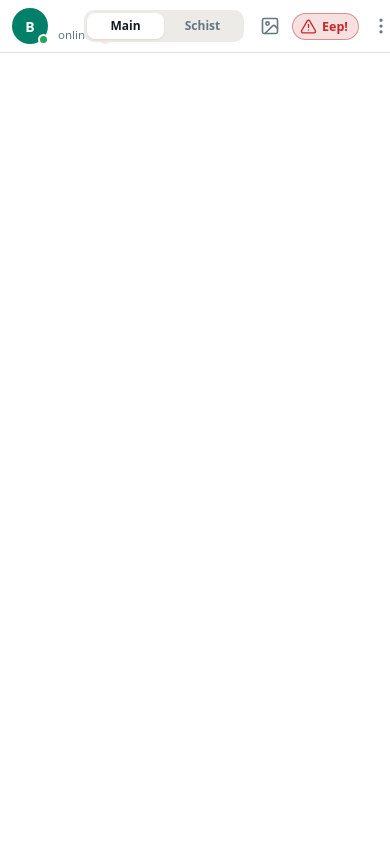
ChatHeader › tapping the avatar opens the card too
This screenshot has width=390, height=844.
Click the button named "View Bea's profile" at (30, 26), box [12,8,48,44]
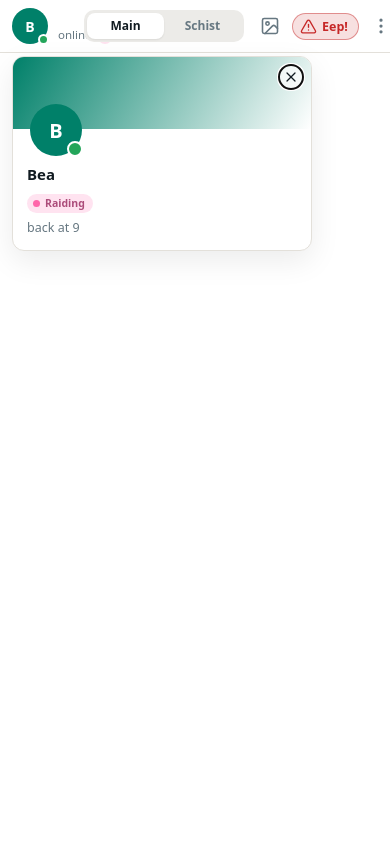
Expected: the dialog "Bea" is shown, [12,56,312,251]
